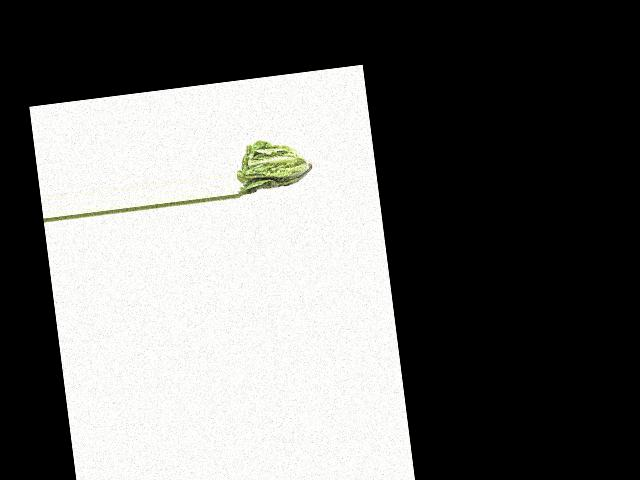lettuce: (232, 132, 312, 195)
